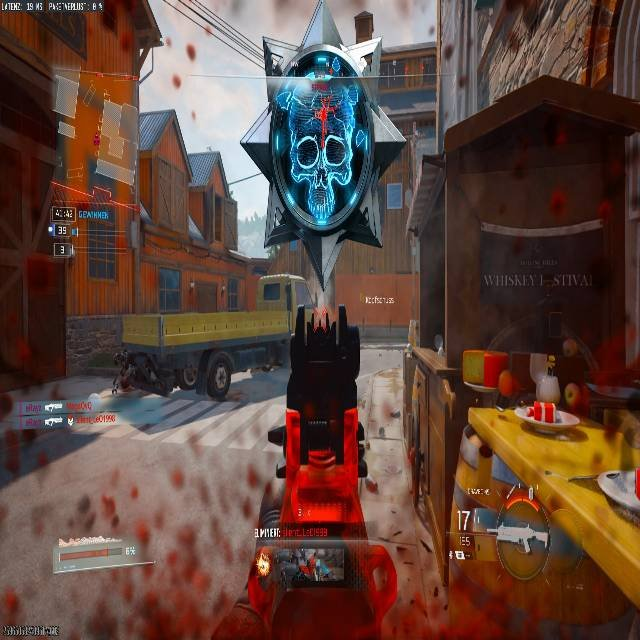head: (113, 349, 127, 366)
